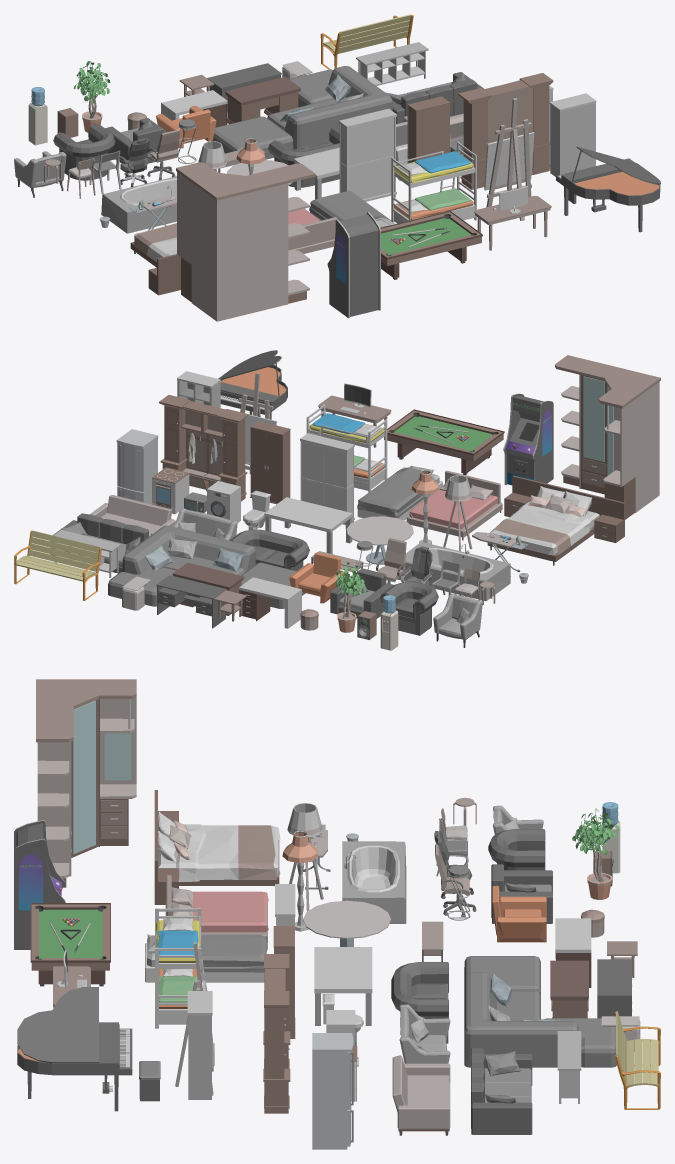
Rendered from furniture_set.glb.
The picture shows the model from 3 angles, top to bottom: view 1: azimuth 30°, elevation 25°; view 2: azimuth 150°, elevation 25°; view 3: azimuth 270°, elevation 25°; orthographic projection. The views are drawn at different scales.
Parts seen in each view (by area): view 1: New_Game_Object (×40); view 2: New_Game_Object (×45); view 3: New_Game_Object (×39).
Part boxes in pixels (x1=…): New_Game_Object (×40): x1=14, y1=14, x2=660, y2=321; New_Game_Object (×45): x1=14, y1=350, x2=660, y2=650; New_Game_Object (×39): x1=14, y1=679, x2=660, y2=1149.
Size of the model in its own units: 9.49 by 3.22 by 9.41.
